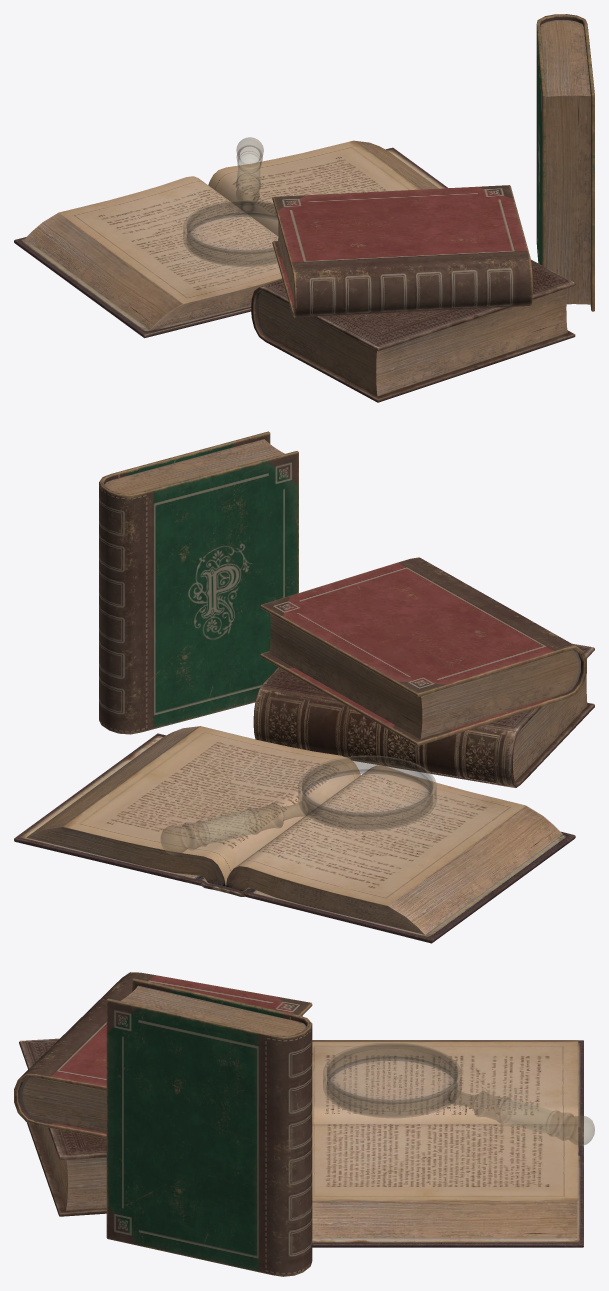
Rendered from Book3-transformed.glb.
3 views of the same model, one above another, from view 1: azimuth 30°, elevation 25°; view 2: azimuth 150°, elevation 25°; view 3: azimuth 270°, elevation 25° (orthographic). The views are drawn at different scales.
Visible parts, largest first — view 1: Open_book_Open_book_Mat_0, Book_3_Book_3_Mat_0, Book_1_Book_1_Mat_0, Book_2_Book_2_Mat_0, Magnifier_Magnifier_0; view 2: Open_book_Open_book_Mat_0, Book_2_Book_2_Mat_0, Book_3_Book_3_Mat_0, Book_1_Book_1_Mat_0, Magnifier_Magnifier_0; view 3: Open_book_Open_book_Mat_0, Book_2_Book_2_Mat_0, Book_3_Book_3_Mat_0, Magnifier_Magnifier_0, Book_1_Book_1_Mat_0.
Part boxes in pixels (x1,y1,x2,y2): Open_book_Open_book_Mat_0: [14, 140, 447, 338]; Book_3_Book_3_Mat_0: [272, 185, 532, 317]; Book_1_Book_1_Mat_0: [251, 259, 575, 402]; Book_2_Book_2_Mat_0: [536, 14, 594, 311]; Magnifier_Magnifier_0: [183, 137, 277, 266]; Open_book_Open_book_Mat_0: [14, 726, 575, 943]; Book_2_Book_2_Mat_0: [99, 431, 298, 734]; Book_3_Book_3_Mat_0: [260, 557, 586, 746]; Book_1_Book_1_Mat_0: [253, 643, 594, 787]; Magnifier_Magnifier_0: [161, 755, 436, 855]; Open_book_Open_book_Mat_0: [312, 1040, 583, 1247]; Book_2_Book_2_Mat_0: [106, 978, 312, 1276]; Book_3_Book_3_Mat_0: [14, 972, 312, 1138]; Magnifier_Magnifier_0: [323, 1043, 594, 1145]; Book_1_Book_1_Mat_0: [19, 1038, 106, 1216].
Size of the model in its own units: 0.4028 by 0.1928 by 0.4217.
Materials: 5 (5 with a texture image).
